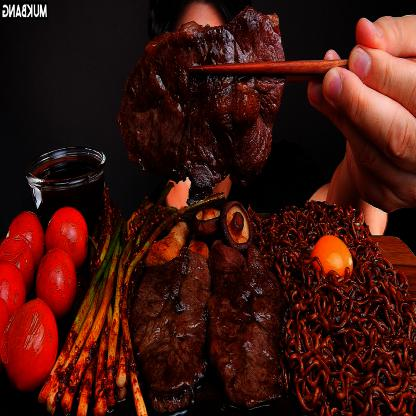Carne: (124, 0, 283, 172), (134, 245, 208, 412), (211, 240, 279, 408)
